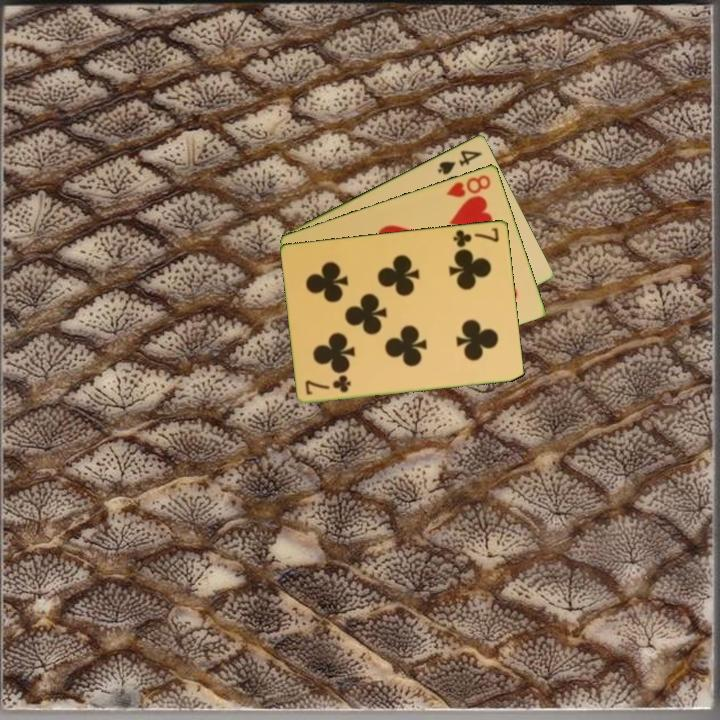4s: (434, 146, 485, 177)
7c: (450, 224, 502, 250), (302, 372, 354, 397)
8h: (443, 171, 494, 200)
